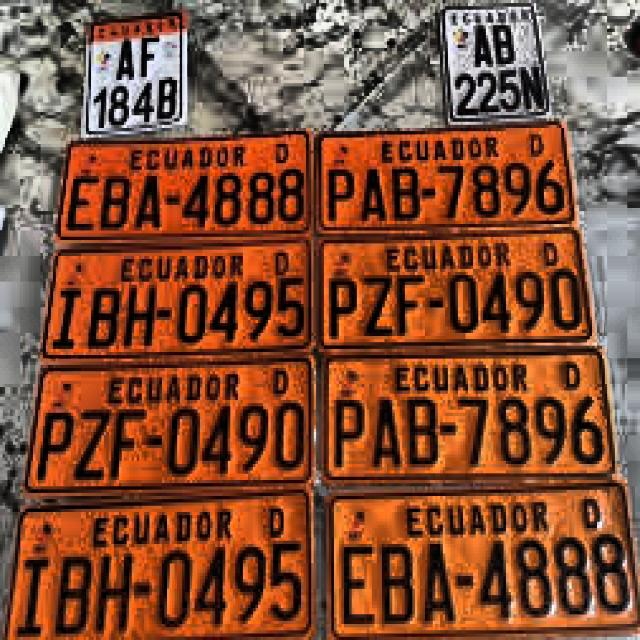license_plate: (319, 468, 639, 633), (0, 491, 317, 640), (316, 338, 628, 489), (16, 355, 319, 497), (313, 219, 601, 354), (32, 240, 317, 367), (311, 116, 582, 237), (50, 125, 313, 240)
